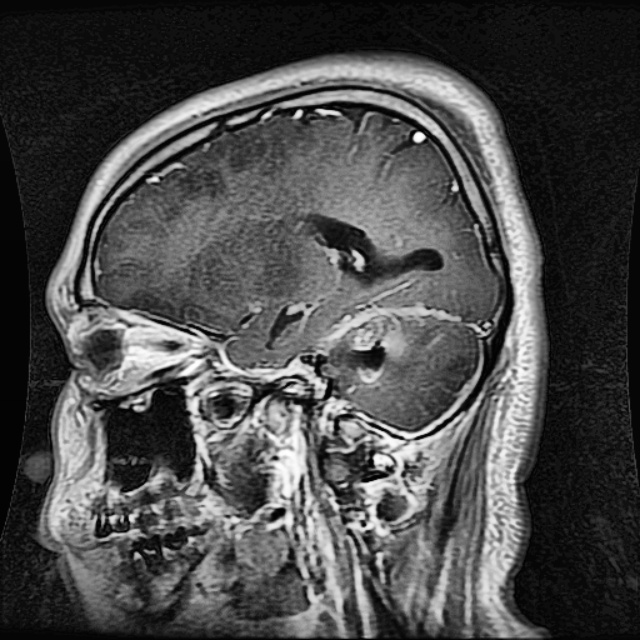Meningioma: (353, 315, 407, 384)
